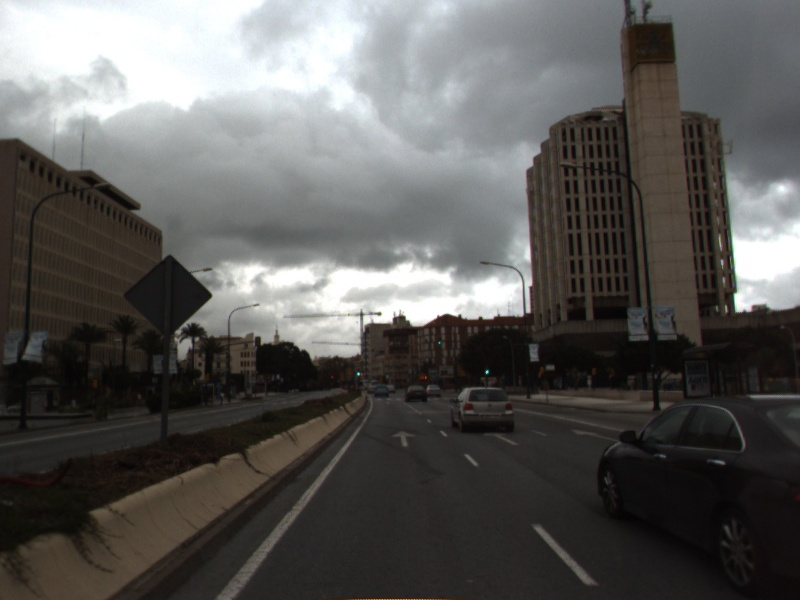STRAIGHT: (569, 427, 620, 443), (481, 430, 522, 447), (389, 428, 419, 448)
